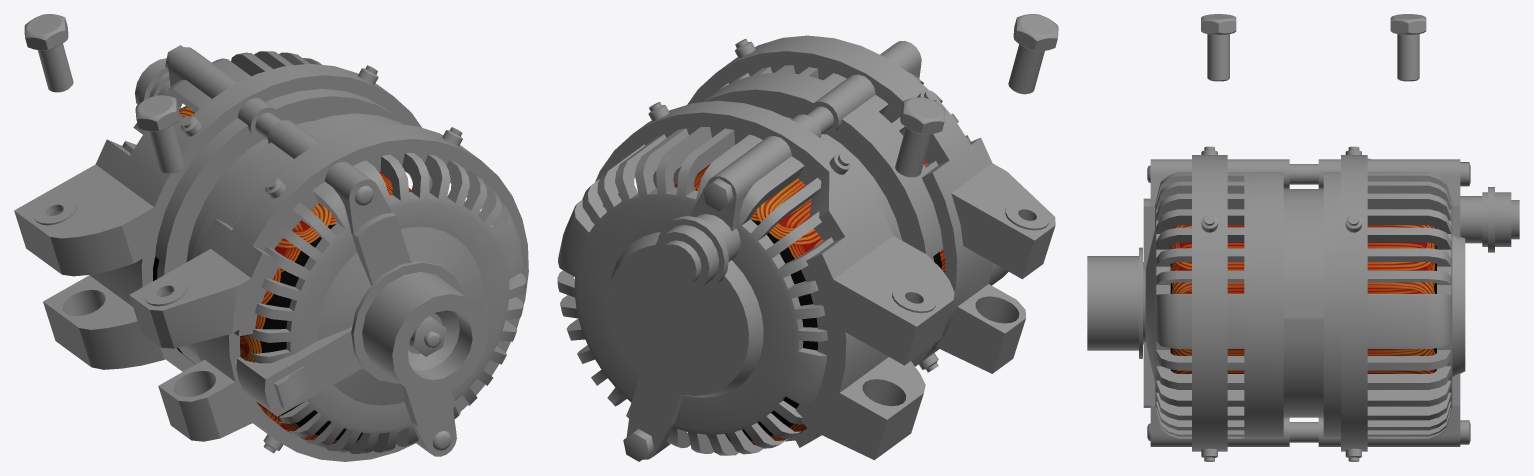
Rendered from alter.glb.
3 renders of one model, left to right at view 1: azimuth 30°, elevation 25°; view 2: azimuth 150°, elevation 25°; view 3: azimuth 270°, elevation 25°, orthographic. The views are drawn at different scales.
Visible parts, largest first — view 1: alternator(0), coil, srubaSilnik_0 (3), srubaSilnik_0 (2); view 2: alternator(0), coil, srubaSilnik_0 (3), srubaSilnik_0 (2); view 3: alternator(0), coil, srubaSilnik_0 (3), srubaSilnik_0 (2).
Part boxes in pixels (box(x1,y1,x2,y2)): alternator(0): box(14, 45, 528, 461); coil: box(153, 106, 411, 443); srubaSilnik_0 (3): box(24, 14, 73, 92); srubaSilnik_0 (2): box(135, 95, 184, 173); alternator(0): box(557, 35, 1055, 461); coil: box(674, 160, 945, 444); srubaSilnik_0 (3): box(895, 97, 945, 177); srubaSilnik_0 (2): box(1008, 14, 1058, 94); alternator(0): box(1087, 146, 1519, 461); coil: box(1170, 225, 1436, 373); srubaSilnik_0 (3): box(1390, 14, 1426, 81); srubaSilnik_0 (2): box(1201, 14, 1236, 81).
Bounding box in the file's own units: 0.00294 × 0.00294 × 0.00341.
Materials: 2 (1 with a texture image).
